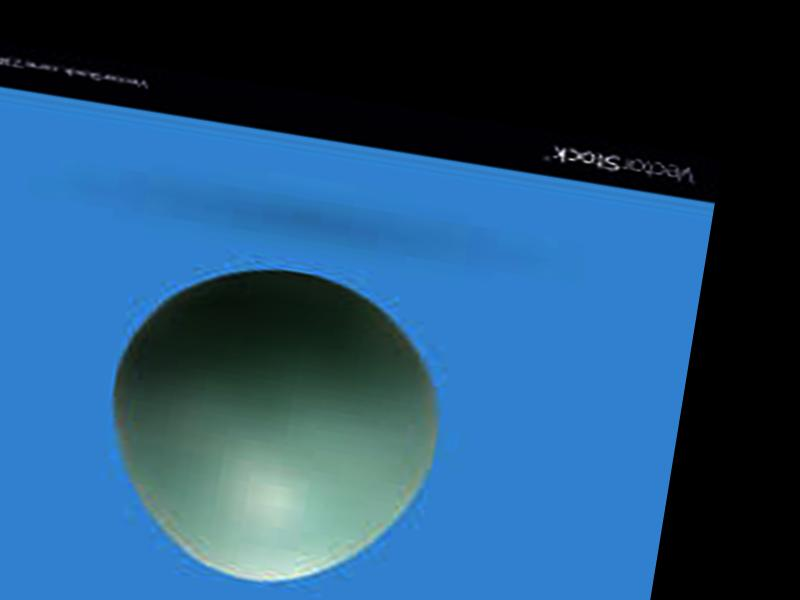Eggs: (83, 247, 458, 600)
